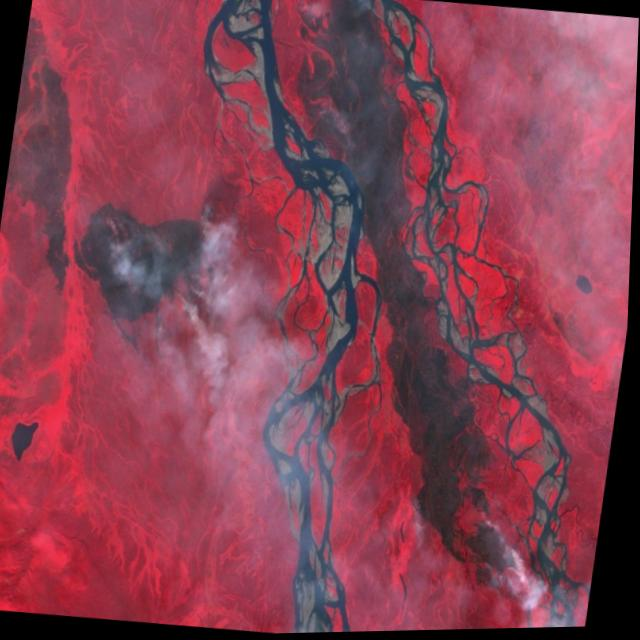fire: (87, 187, 235, 372), (459, 509, 545, 611)
